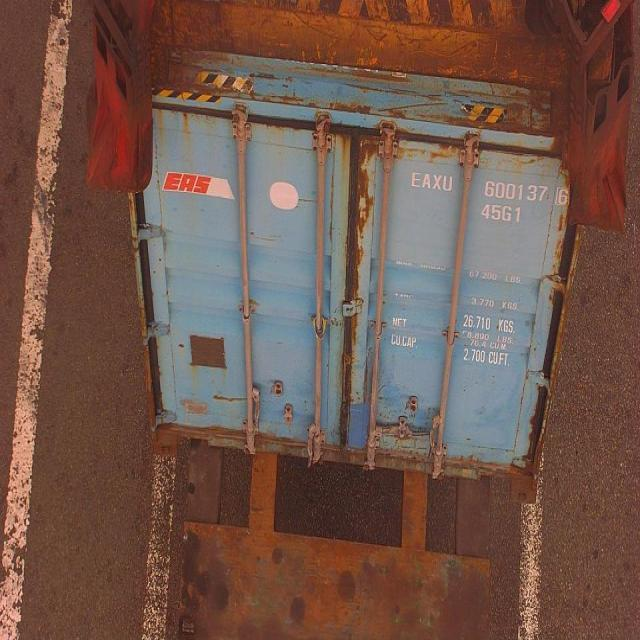ISO: (481, 203, 524, 224)
container_number: (412, 166, 570, 210)
